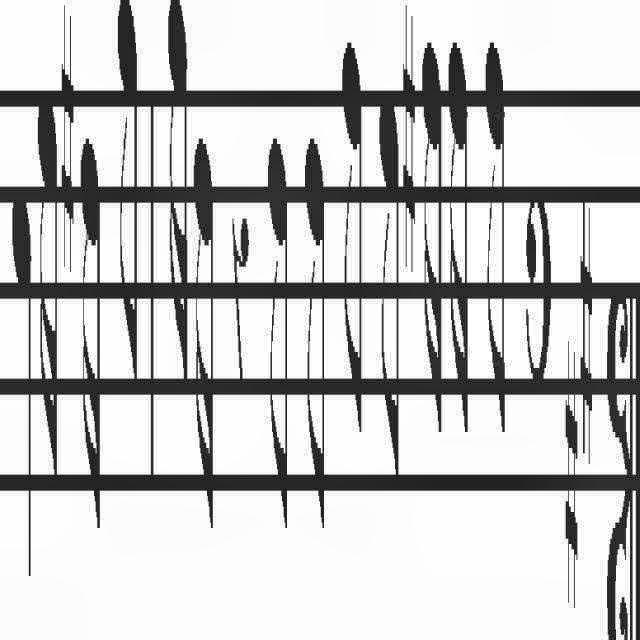Diez: (579, 179, 599, 465), (564, 314, 580, 640), (60, 0, 78, 272), (402, 0, 418, 272)
Eighth-note: (338, 1, 366, 476), (376, 70, 404, 514), (268, 90, 294, 528), (115, 0, 143, 388), (485, 0, 507, 480), (304, 122, 330, 526)
Eighth-rest: (232, 199, 252, 385)
Quarter-note: (10, 179, 34, 577)
Sixteenth-note: (448, 14, 479, 458), (80, 101, 108, 515), (164, 0, 192, 404), (422, 17, 446, 443), (36, 66, 60, 490), (196, 112, 216, 544)
